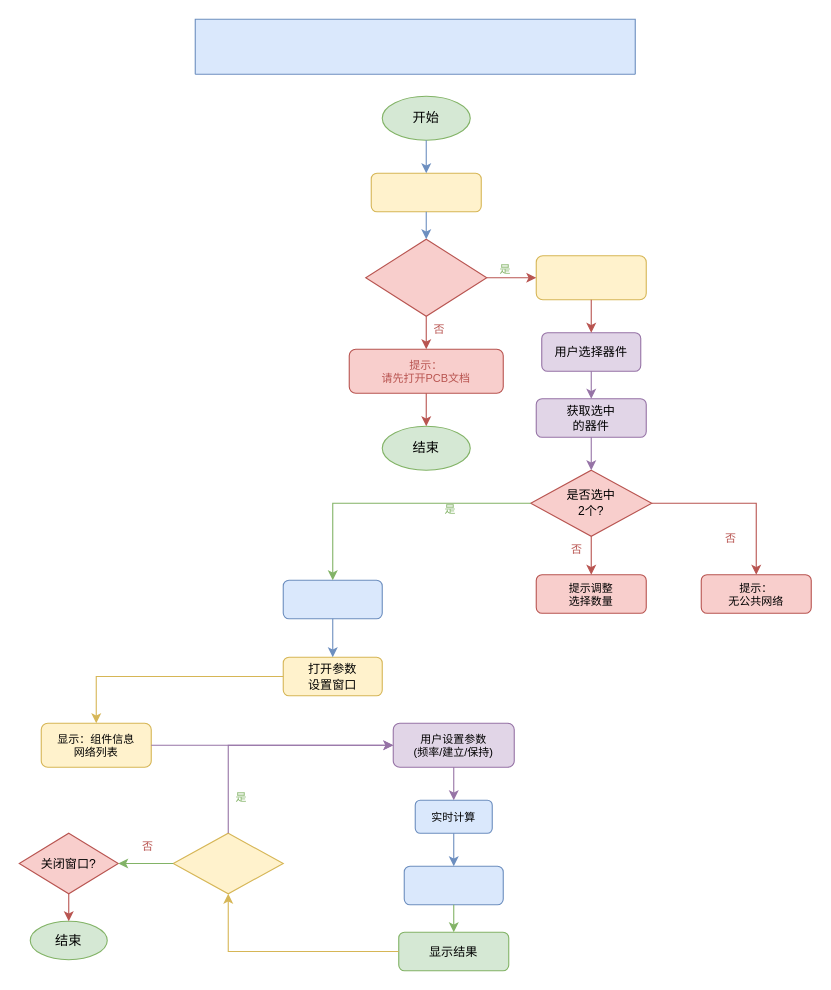
The diagram is 831 pixels wide and 990 high, and some of its shapes have lost their labels. Each missing label, with the centre of its shape:
修改参数?: (x=227, y=863)
提示选择 2个器件: (x=590, y=277)
时序图分析插件 用户交互流程: (x=414, y=46)
查找公共网络: (x=332, y=599)
检测PCB 文档?: (x=426, y=277)
点击插件按钮: (x=425, y=192)
生成时序图 SVG: (x=453, y=885)
